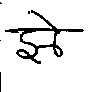e_matra: (28, 9, 63, 29)
